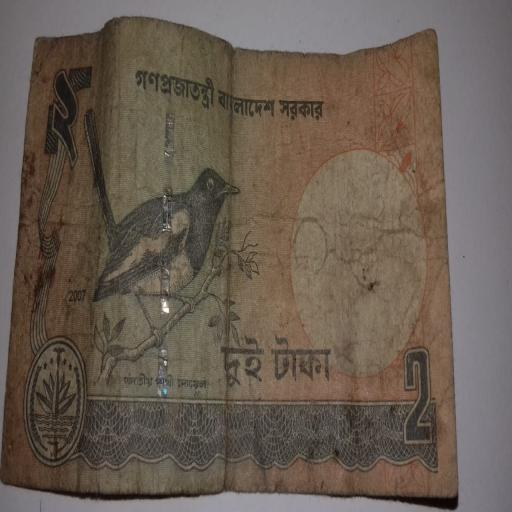2taka: (23, 32, 461, 512)
